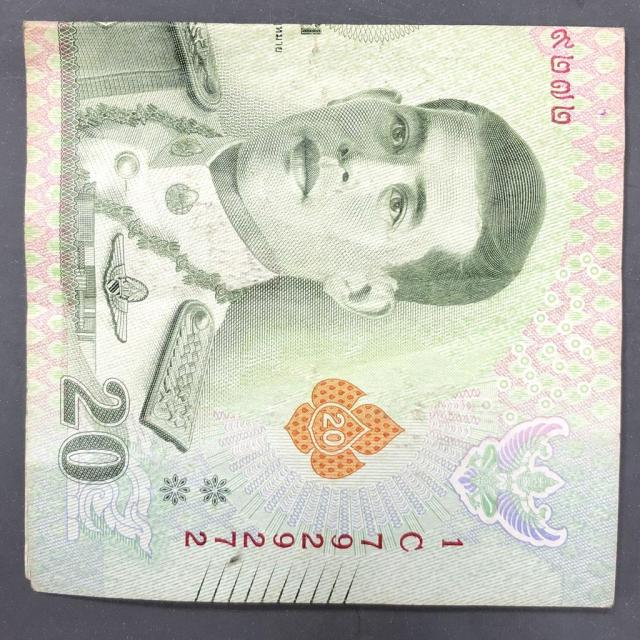THAI20: (24, 20, 624, 608)
